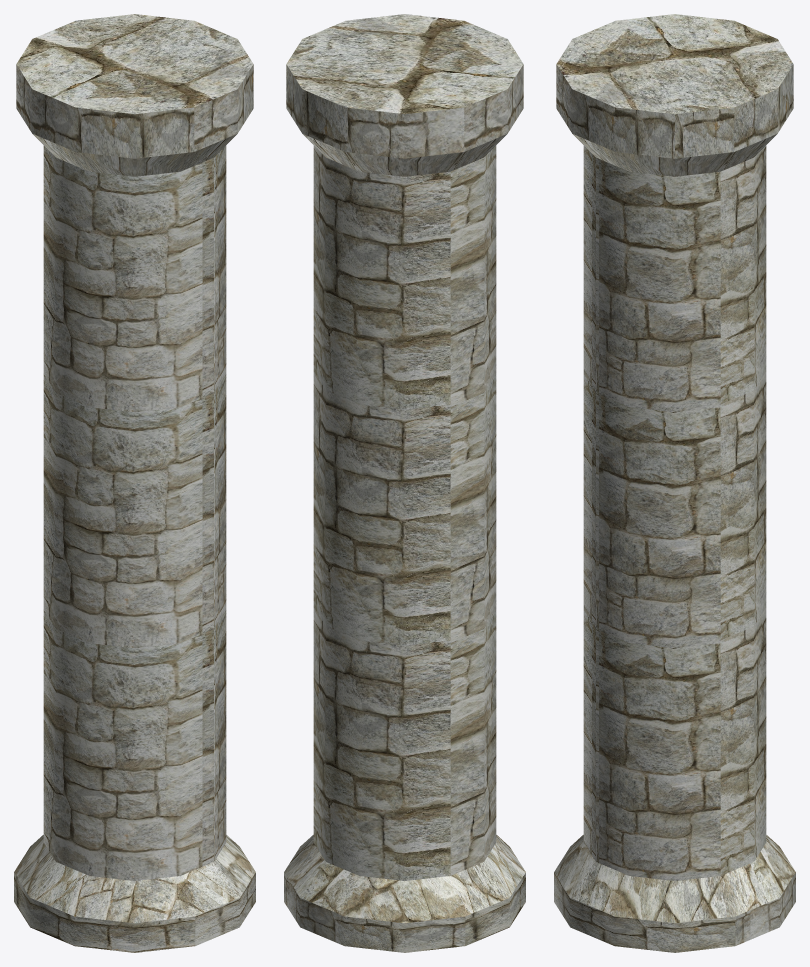
Rendered from Column.fbx.
3 views of the same model, side by side, from view 1: azimuth 30°, elevation 25°; view 2: azimuth 150°, elevation 25°; view 3: azimuth 270°, elevation 25° (orthographic).
Parts seen in each view (by area): view 1: Circle; view 2: Circle; view 3: Circle.
Part boxes in pixels (left/top/right/bottom): Circle: left=14, top=14, right=255, bottom=952; Circle: left=284, top=14, right=525, bottom=952; Circle: left=554, top=14, right=795, bottom=952.
Size of the model in its own units: 148 by 565 by 148.
